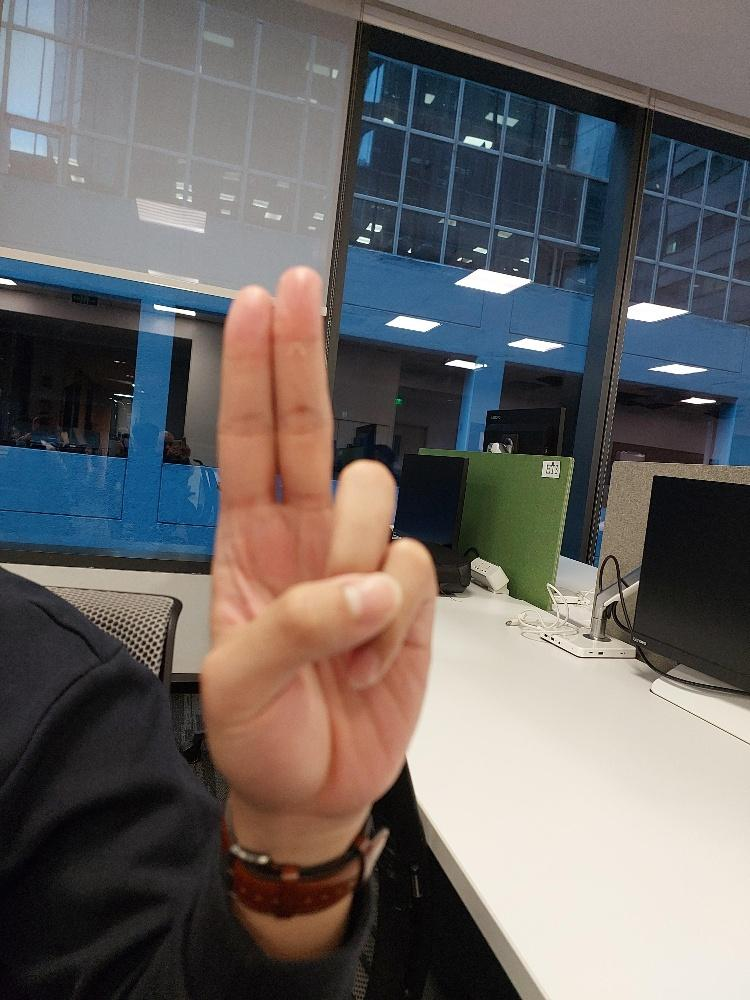u: (198, 270, 433, 810)
